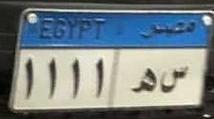1: (89, 57, 107, 99), (21, 57, 37, 100), (67, 57, 81, 99), (45, 58, 58, 98)
haa: (131, 65, 158, 95)
seen: (159, 63, 192, 95)
